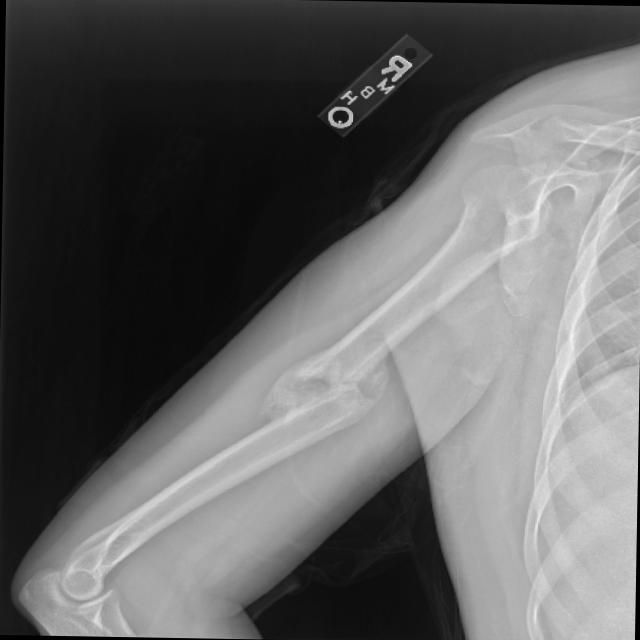humerus fracture: (188, 294, 426, 513)
